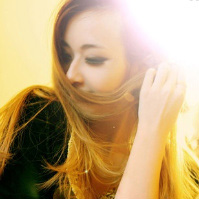face_mask: (59, 13, 128, 115)
